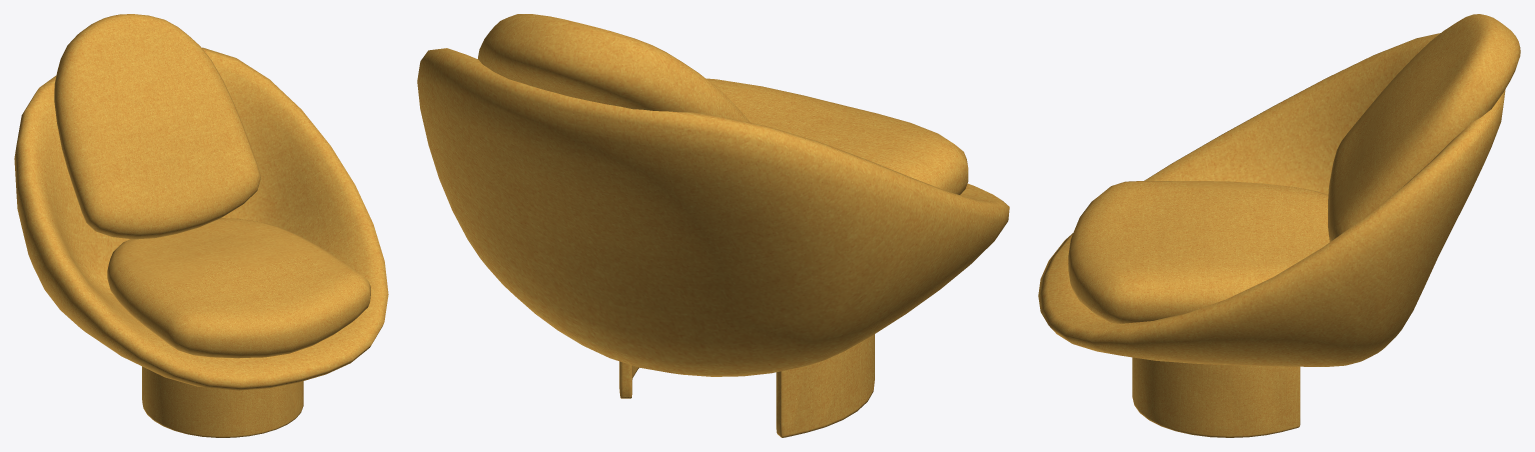
File: mac_motion_comfort_chair.glb
3 renders of one model, left to right at view 1: azimuth 30°, elevation 25°; view 2: azimuth 150°, elevation 25°; view 3: azimuth 270°, elevation 25°, orthographic. The views are drawn at different scales.
Visible parts, largest first — view 1: Mac Motion Comfort Chair; view 2: Mac Motion Comfort Chair; view 3: Mac Motion Comfort Chair.
Part boxes in pixels (x1,y1,x2,y2): Mac Motion Comfort Chair: (14,14,388,437); Mac Motion Comfort Chair: (417,14,1009,437); Mac Motion Comfort Chair: (1038,14,1520,437).
Size of the model in its own units: 0.9453 by 0.8959 by 1.06.
Materials: 1 (1 with a texture image).
